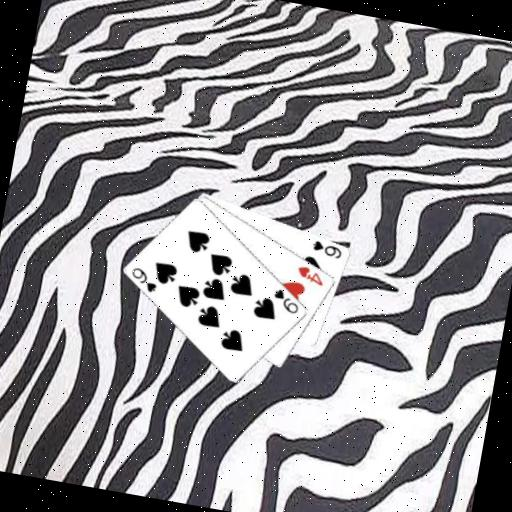4H: (292, 262, 327, 288)
6S: (308, 236, 345, 260)
9S: (125, 262, 161, 294), (268, 285, 303, 316)
